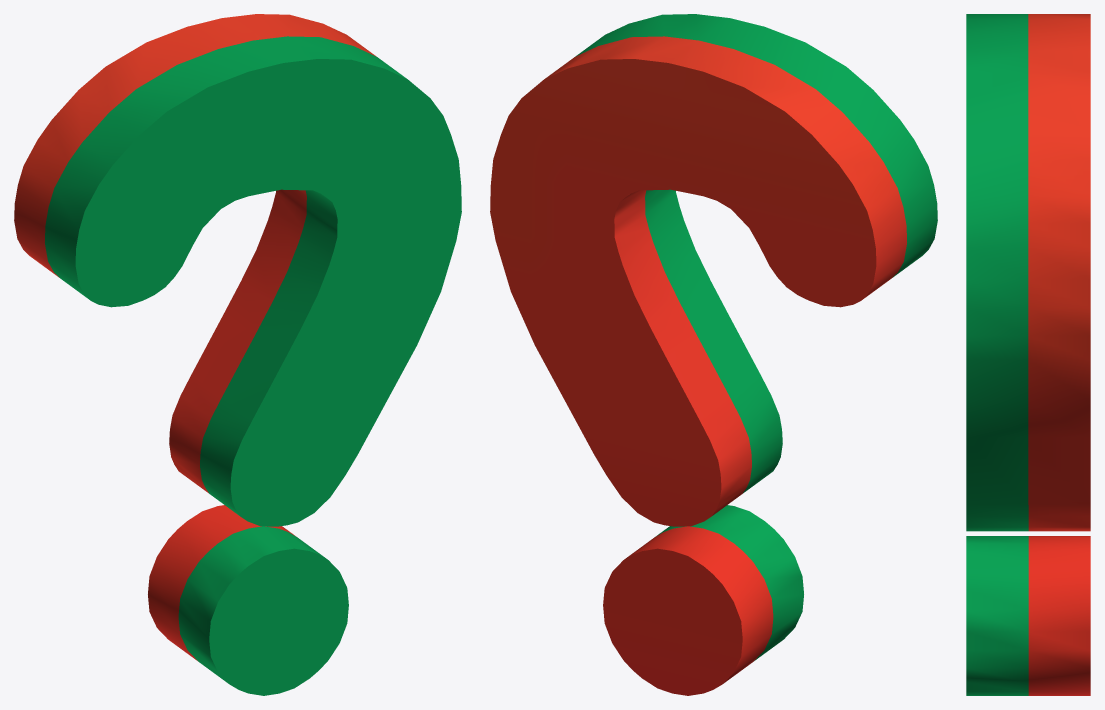
Rendered from question mark.FBX.
3 views of the same model, side by side, from view 1: azimuth 30°, elevation 25°; view 2: azimuth 150°, elevation 25°; view 3: azimuth 270°, elevation 25° (orthographic).
Parts seen in each view (by area): view 1: question mark; view 2: question mark; view 3: question mark.
Part boxes in pixels (<box>): question mark: <box>14,14,461,695</box>; question mark: <box>490,14,937,695</box>; question mark: <box>966,14,1090,695</box>.
Bounding box in the file's own units: 62.48 × 97.29 × 17.19.
Materials: 1 (1 with a texture image).
